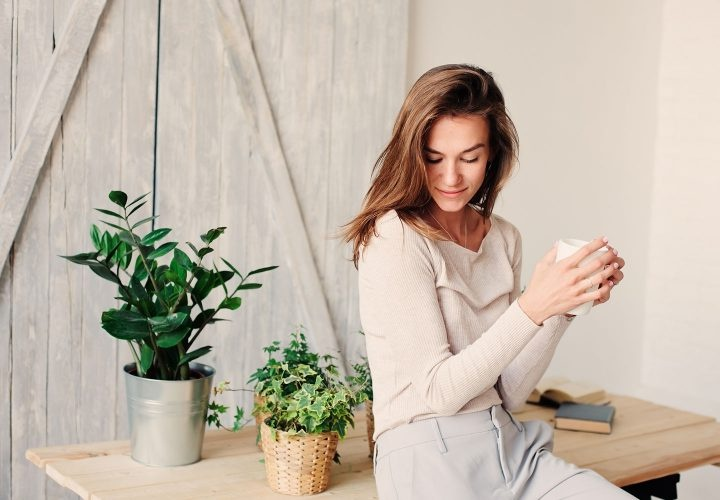not_fallen: (343, 46, 654, 500)
